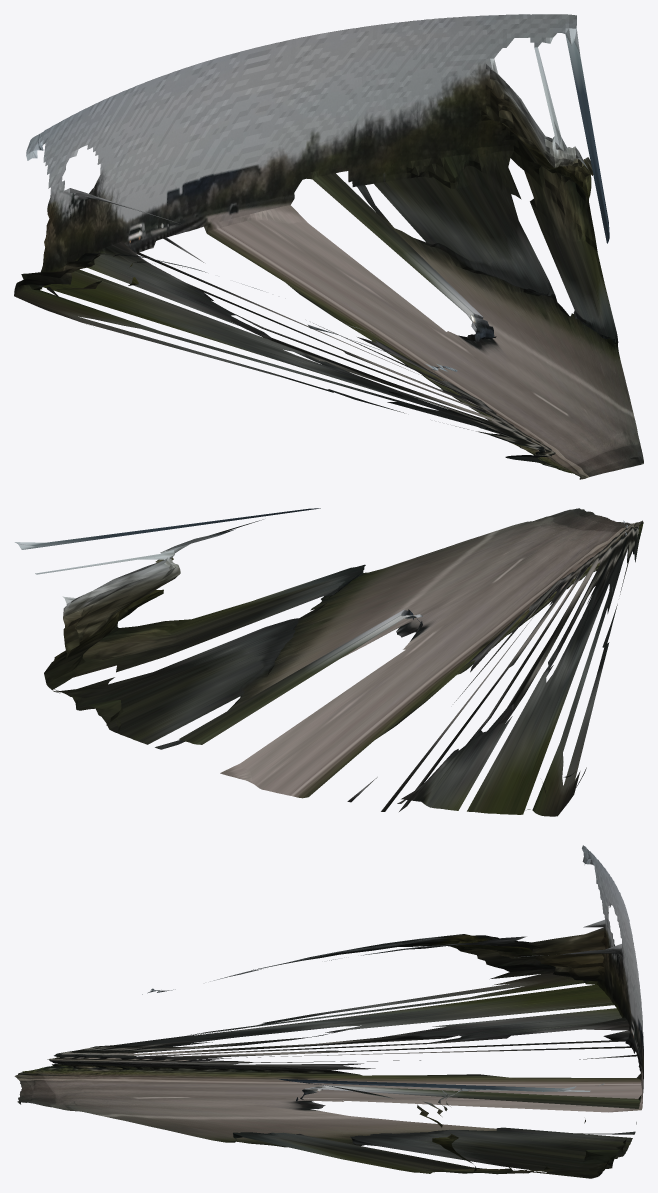
3 views of the same model, one above another, from view 1: azimuth 30°, elevation 25°; view 2: azimuth 150°, elevation 25°; view 3: azimuth 270°, elevation 25° (orthographic). The views are drawn at different scales.
Visible parts, largest first — view 1: defaultobject; view 2: defaultobject; view 3: defaultobject.
Boxes of the visible parts, left/top/right/bottom form: defaultobject: left=14, top=14, right=643, bottom=479; defaultobject: left=14, top=508, right=643, bottom=816; defaultobject: left=14, top=845, right=643, bottom=1178.
Size of the model in its own units: 39.75 by 12.09 by 44.91.
Materials: 1 (1 with a texture image).
